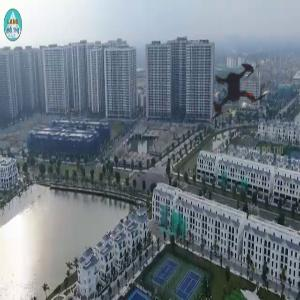drone: (180, 35, 295, 150)
